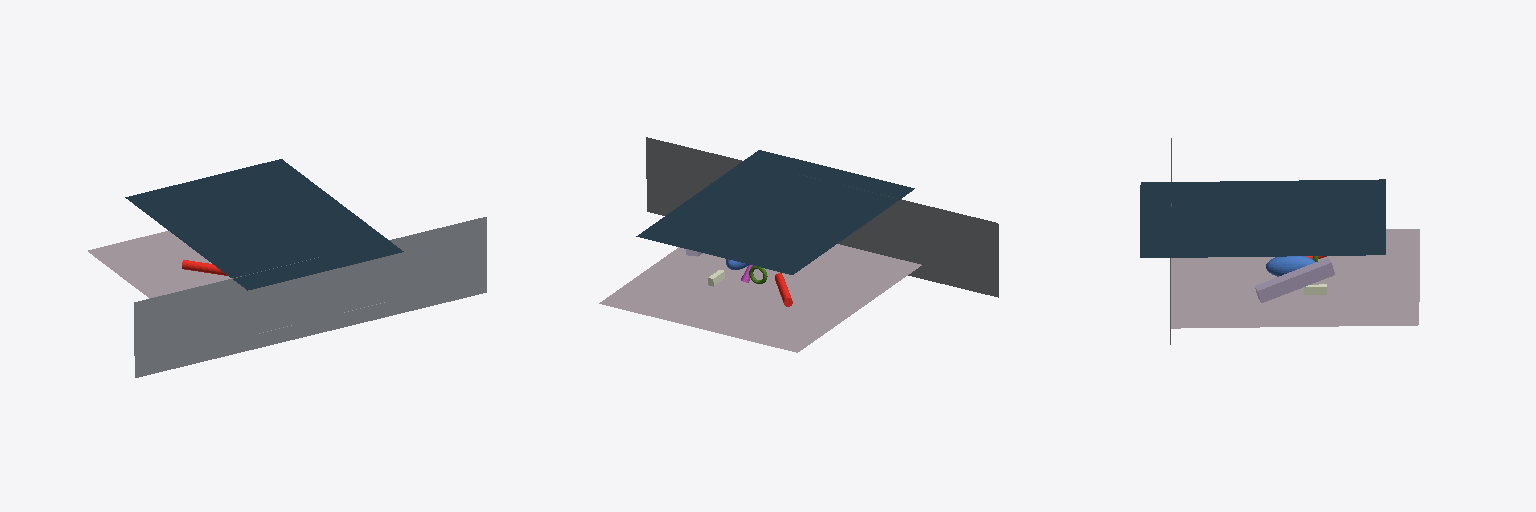
3 renders of one model, left to right at view 1: azimuth 30°, elevation 25°; view 2: azimuth 150°, elevation 25°; view 3: azimuth 270°, elevation 25°, orthographic.
Visible parts, largest first — view 1: back_栅格, sky_平面.002, plane_平面.001; view 2: sky_平面.002, plane_平面.001, back_栅格; view 3: sky_平面.002, plane_平面.001, cuboid_立方体, sphere_球体.
Part boxes in pixels (x1,y1,x2,y2): back_栅格: (134,217,486,377); sky_平面.002: (125,159,403,290); plane_平面.001: (88,231,384,333); sky_平面.002: (636,150,914,274); plane_平面.001: (599,244,921,352); back_栅格: (646,137,998,297); sky_平面.002: (1140,179,1385,257); plane_平面.001: (1171,229,1419,328); cuboid_立方体: (1255,258,1334,302); sphere_球体: (1266,256,1314,276).
Bounding box in the file's own units: 1083 × 230 × 743.